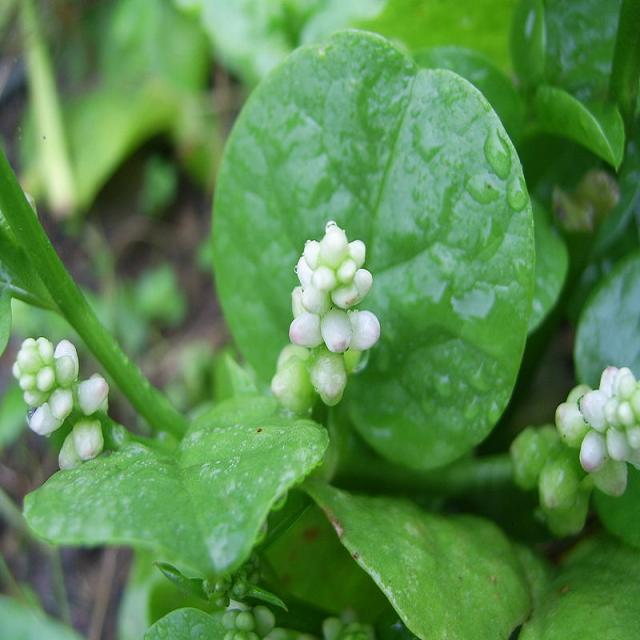Medicinal-Basale: (10, 25, 640, 640)
